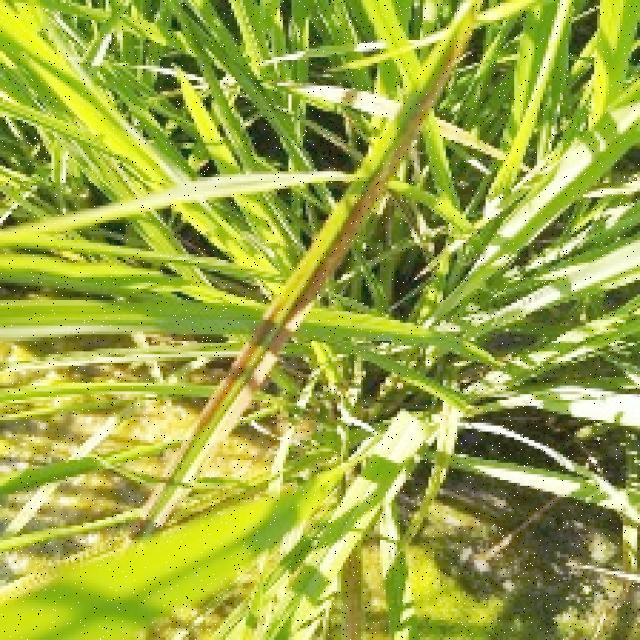-: (0, 0, 258, 316)
